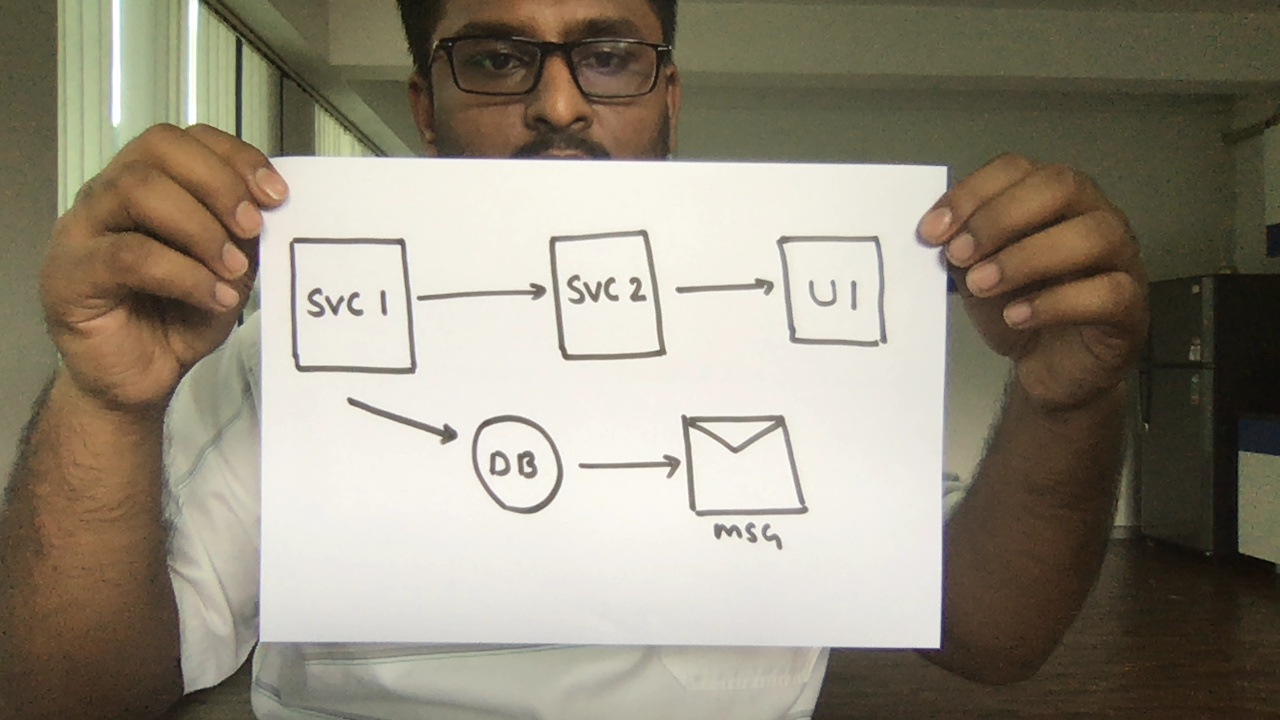arrow: (413, 273, 559, 328), (342, 389, 467, 453), (667, 260, 781, 316), (572, 442, 688, 492)
db: (468, 411, 570, 518)
ec2: (284, 231, 424, 382), (544, 224, 673, 367)
sns: (678, 409, 810, 540)
ui: (773, 230, 895, 352)
